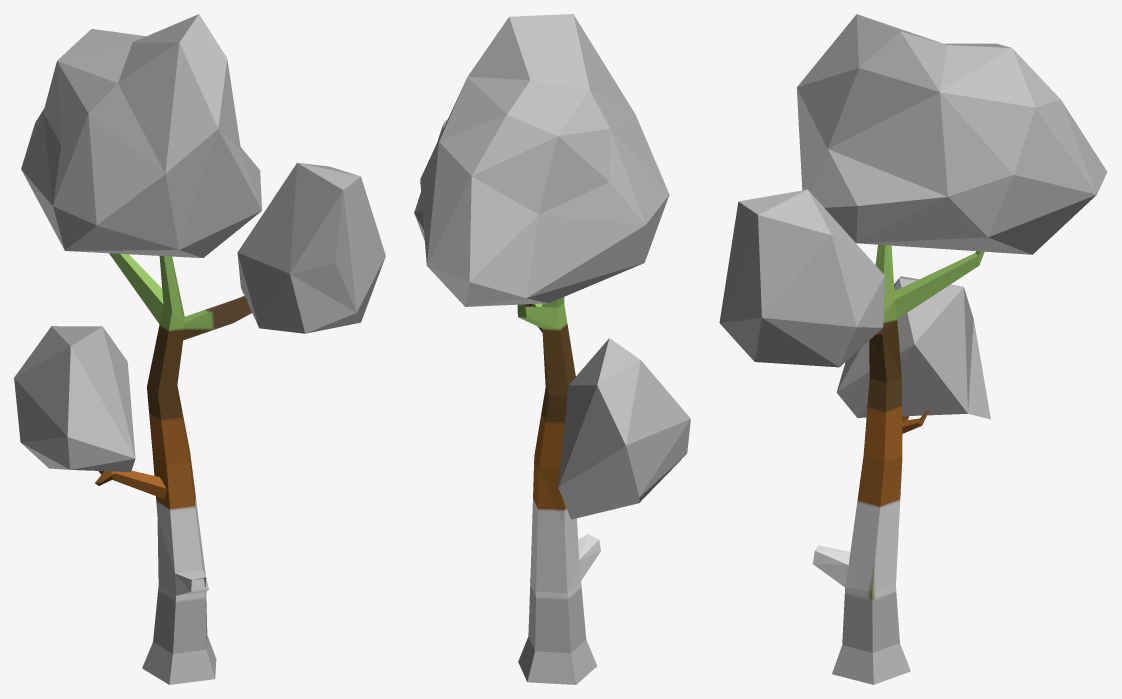
The model's file is Tree_03.fbx.
3 renders of one model, left to right at view 1: azimuth 30°, elevation 25°; view 2: azimuth 150°, elevation 25°; view 3: azimuth 270°, elevation 25°, orthographic. The views are drawn at different scales.
Parts seen in each view (by area): view 1: Tree_03; view 2: Tree_03; view 3: Tree_03.
Boxes of the visible parts, x1,y1,x2,y2 form: Tree_03: (14,14,385,684); Tree_03: (414,14,690,684); Tree_03: (719,14,1107,684).
Bounding box in the file's own units: 4.12 × 9.17 × 4.95.
